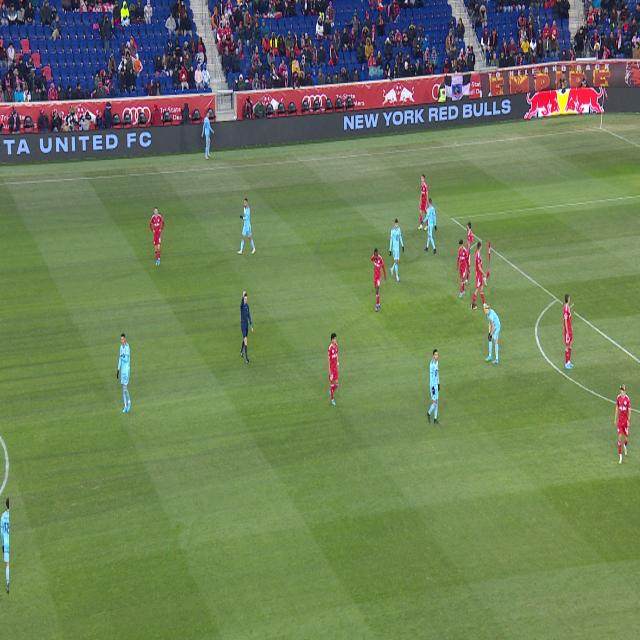player: (614, 384, 631, 464), (471, 242, 490, 309), (117, 333, 131, 413), (237, 198, 256, 255), (484, 303, 501, 364), (371, 248, 387, 311), (427, 349, 440, 424), (389, 219, 404, 282), (464, 222, 478, 286), (150, 207, 165, 266), (0, 497, 9, 595), (422, 198, 437, 254), (563, 294, 574, 370), (328, 334, 339, 406), (457, 239, 469, 298), (418, 174, 429, 230), (424, 219, 428, 230)
referee: (240, 291, 253, 364)
